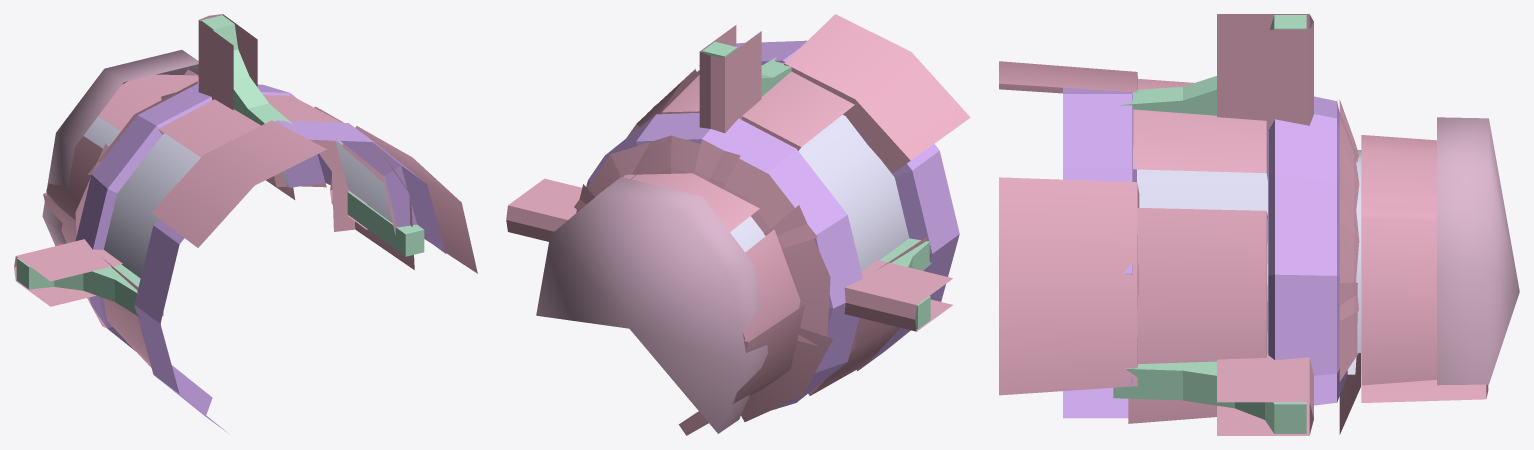
3 views of the same model, side by side, from view 1: azimuth 30°, elevation 25°; view 2: azimuth 150°, elevation 25°; view 3: azimuth 270°, elevation 25° (orthographic). The views are drawn at different scales.
Parts seen in each view (by area): view 1: Object14; view 2: Object14; view 3: Object14.
Part boxes in pixels (left/top/right/bottom): Object14: left=14, top=14, right=477, bottom=433; Object14: left=506, top=14, right=970, bottom=435; Object14: left=999, top=14, right=1519, bottom=435.
Bounding box in the file's own units: 62973 × 51461 × 54842.
